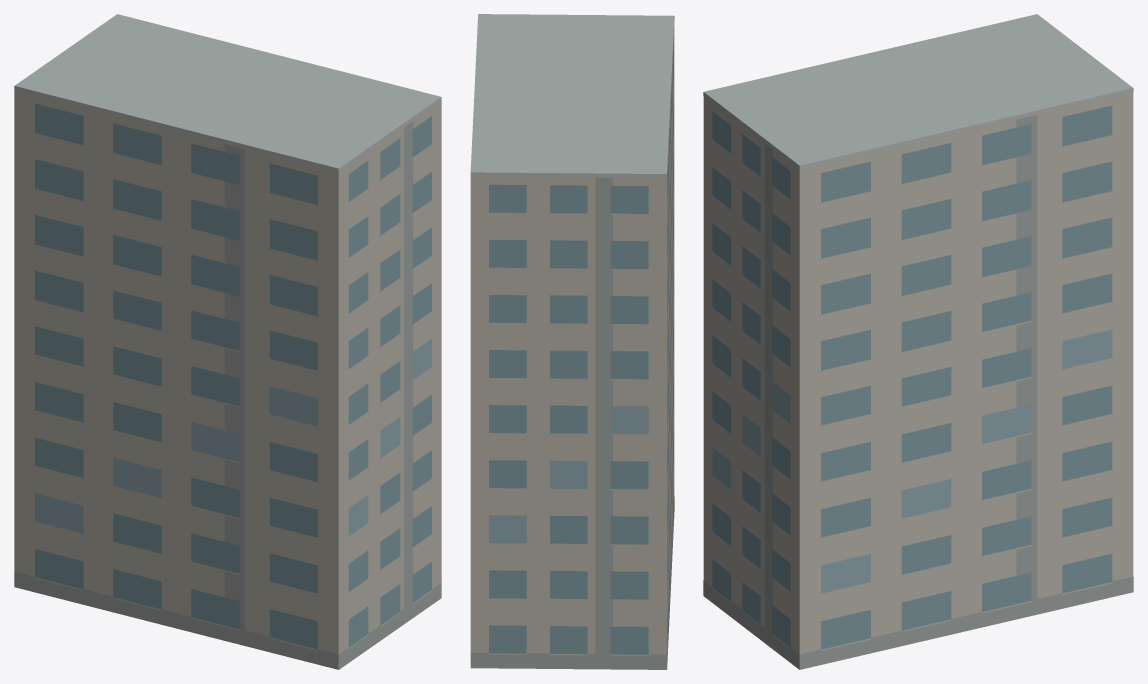
File: residential-b6844562-582a-45f0-bacf-3c228f69e5c8.glb
3 views of the same model, side by side, from view 1: azimuth 30°, elevation 25°; view 2: azimuth 150°, elevation 25°; view 3: azimuth 270°, elevation 25° (orthographic).
Visible parts, largest first — view 1: residential-b6844562-582a-45f0-bacf-3c228f69e5c8.tmp; view 2: residential-b6844562-582a-45f0-bacf-3c228f69e5c8.tmp; view 3: residential-b6844562-582a-45f0-bacf-3c228f69e5c8.tmp.
Boxes of the visible parts, bbox=[...] form: residential-b6844562-582a-45f0-bacf-3c228f69e5c8.tmp: bbox=[14, 14, 441, 669]; residential-b6844562-582a-45f0-bacf-3c228f69e5c8.tmp: bbox=[470, 14, 674, 669]; residential-b6844562-582a-45f0-bacf-3c228f69e5c8.tmp: bbox=[703, 14, 1133, 669].
Size of the model in its own units: 18.07 by 28 by 21.65.
